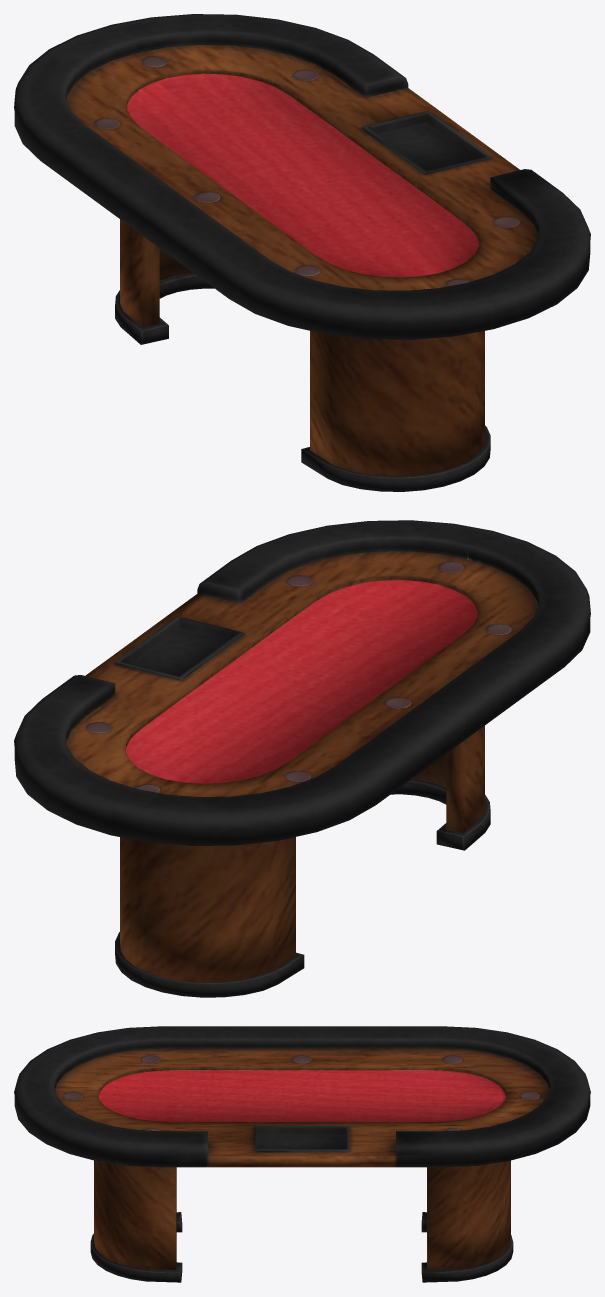
The model's file is pokerTableUpdated.glb.
The picture shows the model from 3 angles, top to bottom: view 1: azimuth 30°, elevation 25°; view 2: azimuth 150°, elevation 25°; view 3: azimuth 270°, elevation 25°; orthographic projection. The views are drawn at different scales.
Parts seen in each view (by area): view 1: tabletop_low_Mesh.001; view 2: tabletop_low_Mesh.001; view 3: tabletop_low_Mesh.001.
Boxes of the visible parts, x1=… form: tabletop_low_Mesh.001: x1=14, y1=14, x2=590, y2=491; tabletop_low_Mesh.001: x1=14, y1=520, x2=590, y2=997; tabletop_low_Mesh.001: x1=14, y1=1026, x2=590, y2=1282.
Bounding box in the file's own units: 2.2 × 1.38 × 4.34.
1 material, 1 textured.
